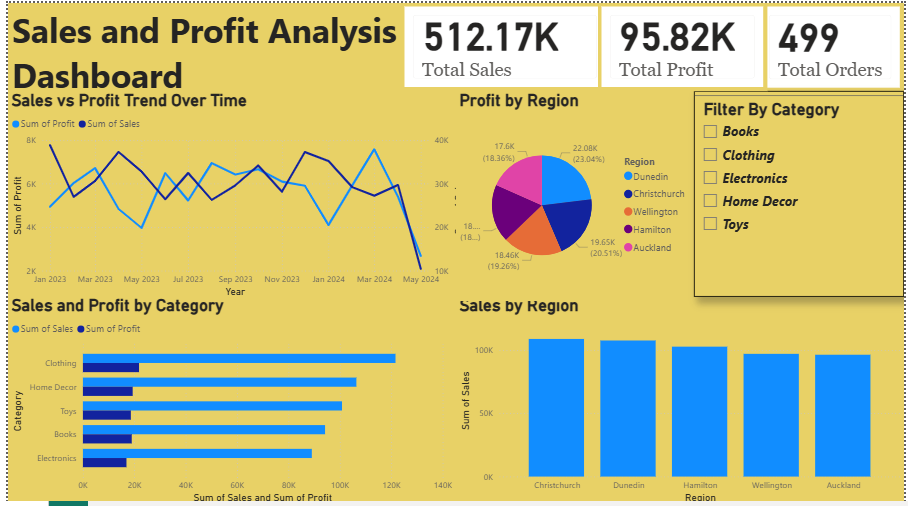

The dashboard page shown, as its layout file describes it:
{"tool":"powerbi","page":{"name":"Page 1","canvas":[1280,720],"ordinal":0},"visuals":[{"type":"cardVisual","fields":{"Data":["sales data.Total Orders"]},"box":[1070.5,0,209.8,126.2],"z":2000},{"type":"lineChart","title":"Sales vs Profit Trend Over Time","fields":{"Category":["sales data.Order_Date.Variation.Date Hierarchy.Year","sales data.Order_Date.Variation.Date Hierarchy.Month"],"Y":["Sum(sales data.Profit)"],"Y2":["Sum(sales data.Sales)"]},"box":[0,125.7,655.7,300],"z":3000},{"type":"clusteredBarChart","title":"Sales and  Profit by Category","fields":{"Category":["sales data.Category"],"Y":["Sum(sales data.Sales)","Sum(sales data.Profit)"]},"box":[0,418.6,640,301.4],"z":4000},{"type":"clusteredColumnChart","title":"Sales by Region","fields":{"Category":["sales data.Region"],"Y":["Sum(sales data.Sales)"]},"box":[639.4,419,640.8,301],"z":5000},{"type":"pieChart","title":" Profit by Region","fields":{"Category":["sales data.Region"],"Y":["Sum(sales data.Profit)"]},"box":[639.4,125.3,341.3,299.5],"z":6000},{"type":"textbox","box":[0,0,590.4,126.7],"z":7000},{"type":"slicer","fields":{"Values":["sales data.Category"]},"box":[980.6,125.3,299.5,293.8],"z":8000},{"type":"cardVisual","fields":{"Data":["sales data.Total Sales"]},"box":[561.4,0,297.1,125.7],"z":8001},{"type":"cardVisual","fields":{"Data":["sales data.Total Profit"]},"box":[843.3,0,241.9,126],"z":8002}]}

Visuals, with their boxes in screenshot pixels (x1, y1, x2, y2), scaled from the page's 1280x720 canvas onto the 908x506 screenshot:
cardVisual - sales data.Total Orders: locate(759, 0, 907, 89)
"Sales vs Profit Trend Over Time" lineChart: locate(0, 88, 465, 299)
"Sales and  Profit by Category" clusteredBarChart: locate(0, 294, 454, 505)
"Sales by Region" clusteredColumnChart: locate(454, 294, 907, 505)
" Profit by Region" pieChart: locate(454, 88, 696, 299)
textbox: locate(0, 0, 419, 89)
slicer - sales data.Category: locate(696, 88, 907, 295)
cardVisual - sales data.Total Sales: locate(398, 0, 609, 88)
cardVisual - sales data.Total Profit: locate(598, 0, 770, 89)
